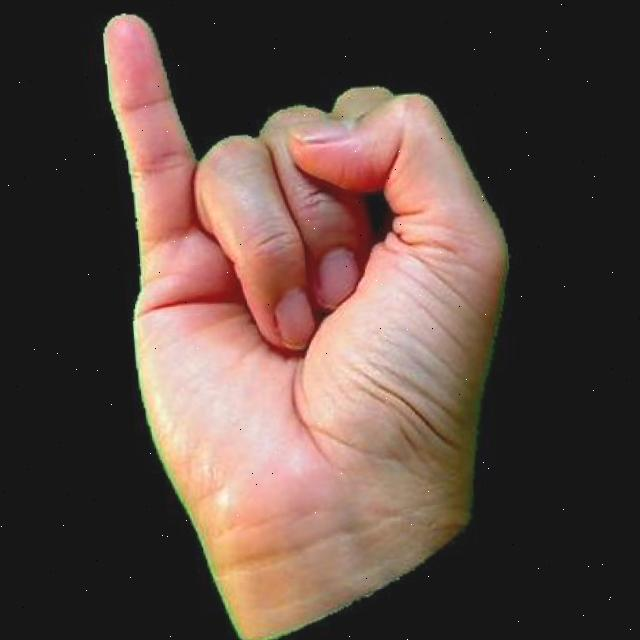i: (77, 0, 543, 640)
